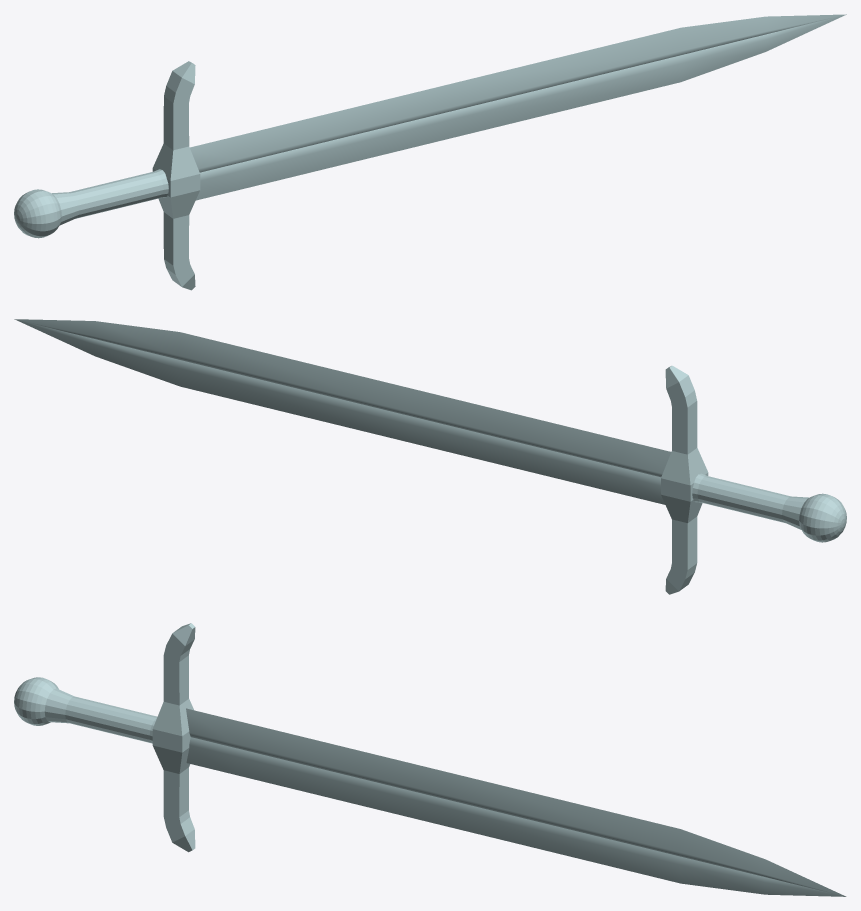
Rendered from gltf_2.glb.
3 views of the same model, one above another, from view 1: azimuth 30°, elevation 25°; view 2: azimuth 150°, elevation 25°; view 3: azimuth 330°, elevation 25° (orthographic).
Visible parts, largest first — view 1: Circle, Cube, Sphere; view 2: Circle, Cube, Sphere; view 3: Circle, Cube, Sphere.
Boxes of the visible parts, left/top/right/bottom form: Circle: left=190, top=14, right=846, bottom=200; Cube: left=152, top=61, right=200, bottom=290; Sphere: left=14, top=169, right=168, bottom=238; Circle: left=14, top=319, right=671, bottom=504; Cube: left=661, top=365, right=708, bottom=594; Sphere: left=692, top=473, right=846, bottom=542; Circle: left=186, top=708, right=846, bottom=896; Cube: left=152, top=623, right=195, bottom=852; Sphere: left=14, top=677, right=157, bottom=743.
Bounding box in the file's own units: 3.77 × 0.9864 × 0.1922.
